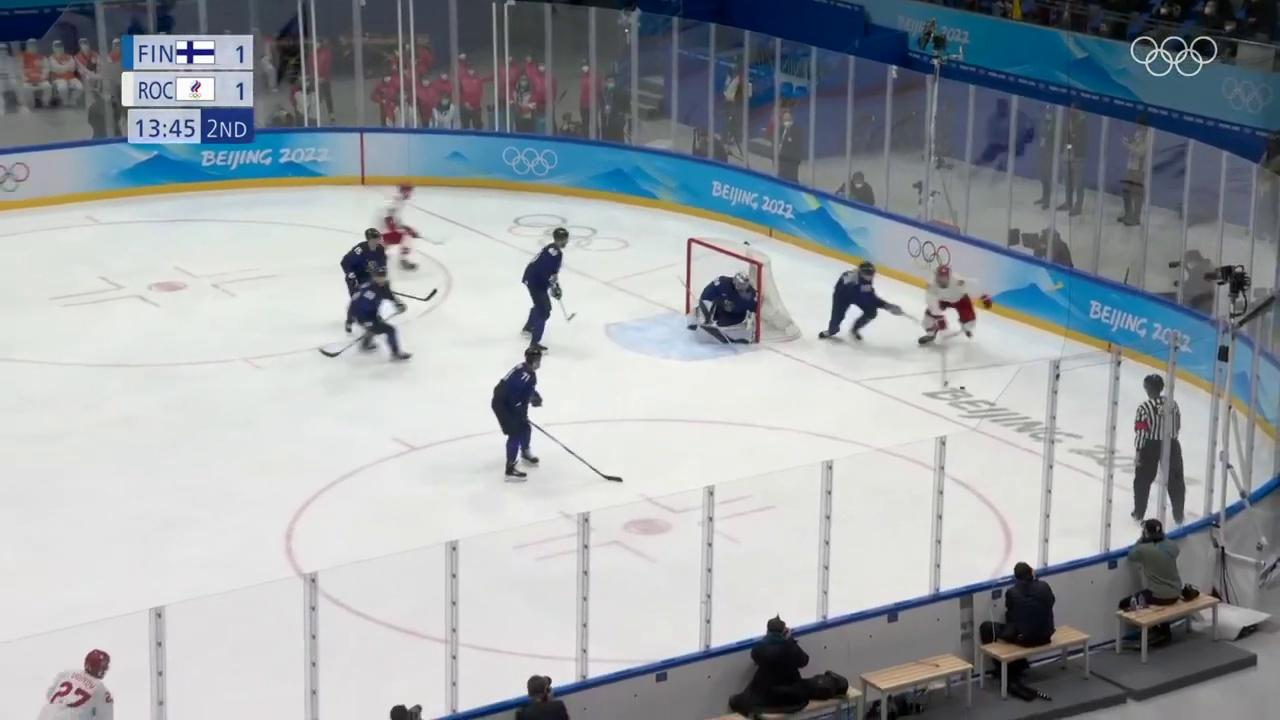ball: (959, 386, 966, 390)
